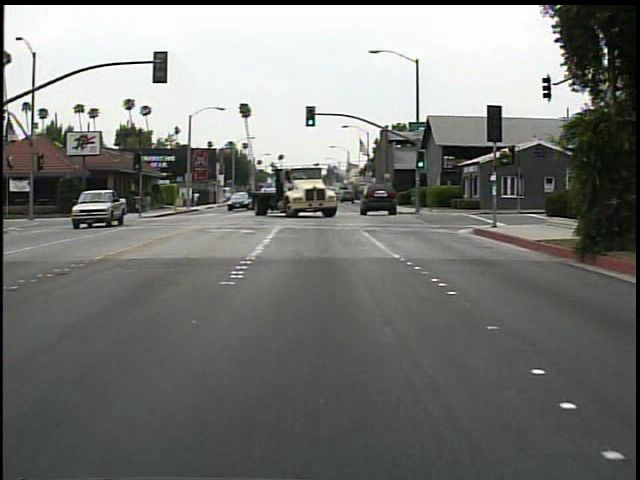person: (192, 188, 204, 209)
